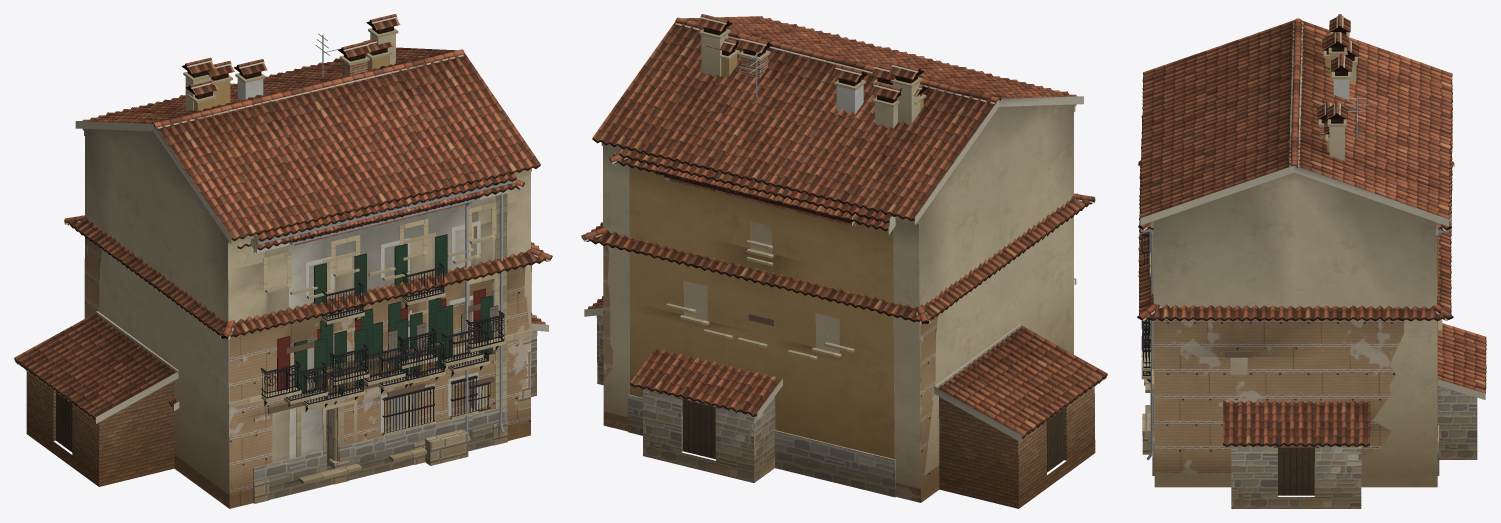
Rendered from houses.glb.
3 renders of one model, left to right at view 1: azimuth 30°, elevation 25°; view 2: azimuth 150°, elevation 25°; view 3: azimuth 270°, elevation 25°, orthographic. The views are drawn at different scales.
Visible parts, largest first — view 1: arcade_03, house_06, house_08, corner_01, arcade_01, house_04, house_05, house_02; view 2: arcade_03, arcade_01, house_06, corner_02, corner_01, house_08, house_04, house_05, house_02; view 3: arcade_03, house_06, house_02, corner_02, arcade_01, house_08, corner_01.
Part boxes in pixels (x1,y1,x2,y2): arcade_03: [75, 14, 540, 494]; house_06: [14, 215, 552, 508]; house_08: [233, 33, 480, 481]; corner_01: [250, 179, 524, 503]; arcade_01: [208, 61, 516, 503]; house_04: [319, 41, 444, 393]; house_05: [185, 39, 447, 390]; house_02: [531, 313, 548, 396]; arcade_03: [592, 14, 1083, 488]; arcade_01: [619, 64, 896, 459]; house_06: [581, 193, 1107, 508]; corner_02: [630, 347, 782, 482]; corner_01: [609, 82, 901, 497]; house_08: [656, 50, 867, 462]; house_04: [737, 35, 772, 78]; house_05: [613, 38, 927, 155]; house_02: [584, 296, 603, 385]; arcade_03: [1140, 14, 1452, 487]; house_06: [1137, 160, 1454, 472]; house_02: [1223, 400, 1370, 508]; corner_02: [1438, 323, 1486, 459]; arcade_01: [1142, 32, 1452, 475]; house_08: [1140, 53, 1441, 443]; corner_01: [1138, 39, 1451, 475].
Size of the model in its own units: 17.45 by 13.81 by 12.37.
5 materials, 5 textured.
